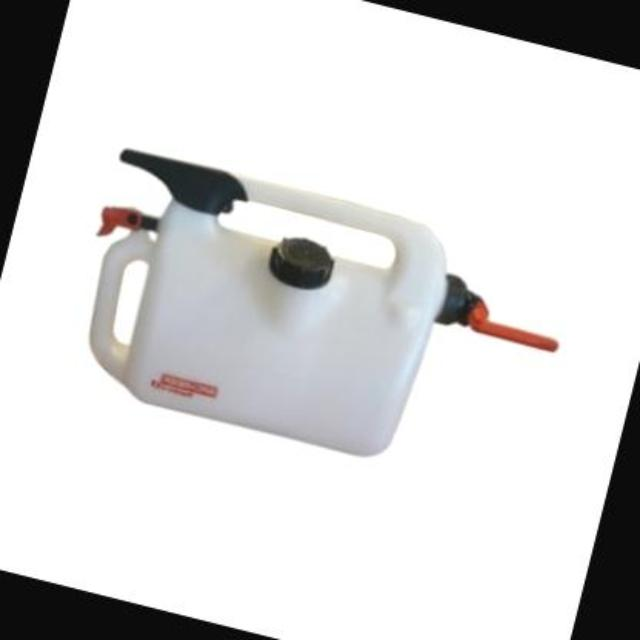chemical_plastic_gallon: (55, 127, 587, 499)
